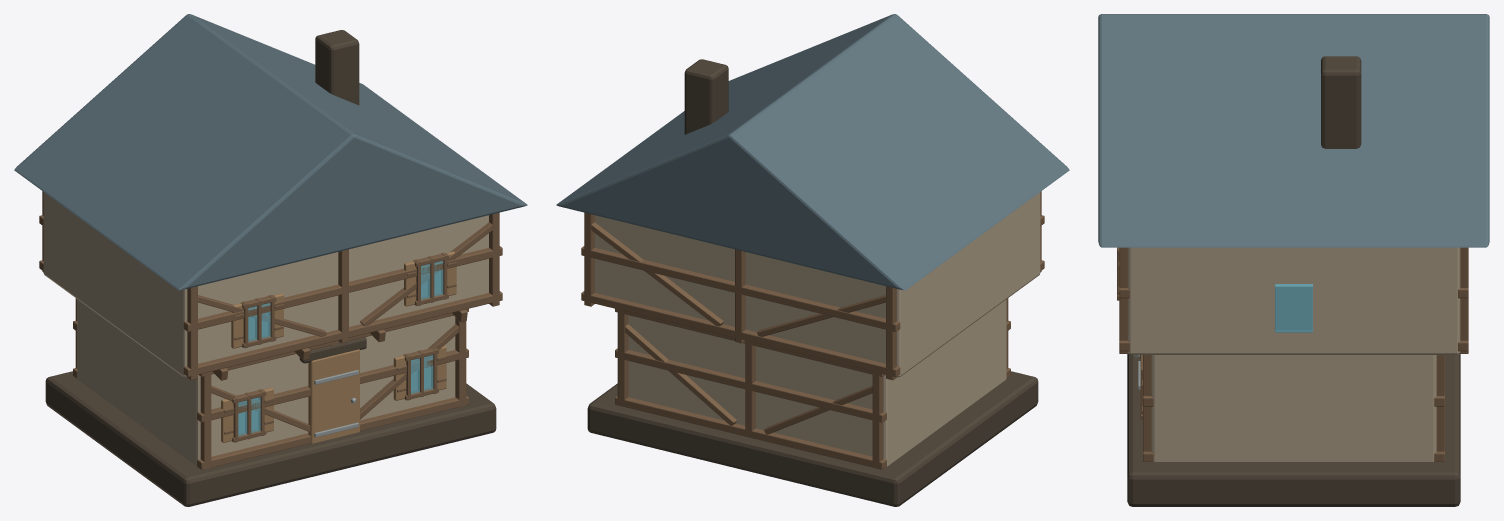
The model's file is house_b.glb.
3 views of the same model, side by side, from view 1: azimuth 30°, elevation 25°; view 2: azimuth 150°, elevation 25°; view 3: azimuth 270°, elevation 25° (orthographic). The views are drawn at different scales.
Visible parts, largest first — view 1: Roof, OverhangingUpperFloor, GroundFloor, StoneFoundation, INTERACT_Door, TimberBeam.006, TimberBeam.008, Chimney, TimberBeam, TimberBeam.002, DiagonalBrace.006, TimberPost (+13 smaller); view 2: Roof, OverhangingUpperFloor, GroundFloor, StoneFoundation, TimberBeam.009, TimberBeam.007, TimberBeam.001, TimberBeam.003, Chimney, DiagonalBrace.007, DiagonalBrace.003, TimberPost.001 (+8 smaller); view 3: Roof, OverhangingUpperFloor, GroundFloor, StoneFoundation, Chimney, WindowGlass.005, TimberPost.010, TimberPost.011, TimberPost.004, TimberPost.005.
Part boxes in pixels (<box>): Roof: <box>14,14,527,290</box>; OverhangingUpperFloor: <box>43,192,488,377</box>; GroundFloor: <box>77,299,455,466</box>; StoneFoundation: <box>45,371,496,506</box>; INTERACT_Door: <box>308,349,359,443</box>; TimberBeam.006: <box>183,291,502,376</box>; TimberBeam.008: <box>183,246,502,331</box>; Chimney: <box>315,30,359,105</box>; TimberBeam: <box>197,396,468,469</box>; TimberBeam.002: <box>197,348,468,422</box>; DiagonalBrace.006: <box>360,222,492,326</box>; TimberPost: <box>200,372,211,468</box>; Roof: <box>556,14,1069,290</box>; OverhangingUpperFloor: <box>595,192,1040,377</box>; GroundFloor: <box>628,299,1006,466</box>; StoneFoundation: <box>587,371,1038,506</box>; TimberBeam.009: <box>581,246,900,331</box>; TimberBeam.007: <box>581,291,900,376</box>; TimberBeam.001: <box>615,396,886,469</box>; TimberBeam.003: <box>615,348,886,422</box>; Chimney: <box>684,59,728,134</box>; DiagonalBrace.007: <box>591,222,723,326</box>; DiagonalBrace.003: <box>625,324,736,425</box>; TimberPost.001: <box>872,371,883,468</box>; Roof: <box>1098,14,1489,247</box>; OverhangingUpperFloor: <box>1127,247,1460,354</box>; GroundFloor: <box>1151,355,1436,461</box>; StoneFoundation: <box>1127,354,1460,506</box>; Chimney: <box>1321,56,1361,148</box>; WindowGlass.005: <box>1275,284,1312,332</box>; TimberPost.010: <box>1119,247,1128,353</box>; TimberPost.011: <box>1459,247,1468,353</box>; TimberPost.004: <box>1143,355,1151,451</box>; TimberPost.005: <box>1436,355,1444,451</box>.
Bounding box in the file's own units: 8.46 × 8 × 6.99.
